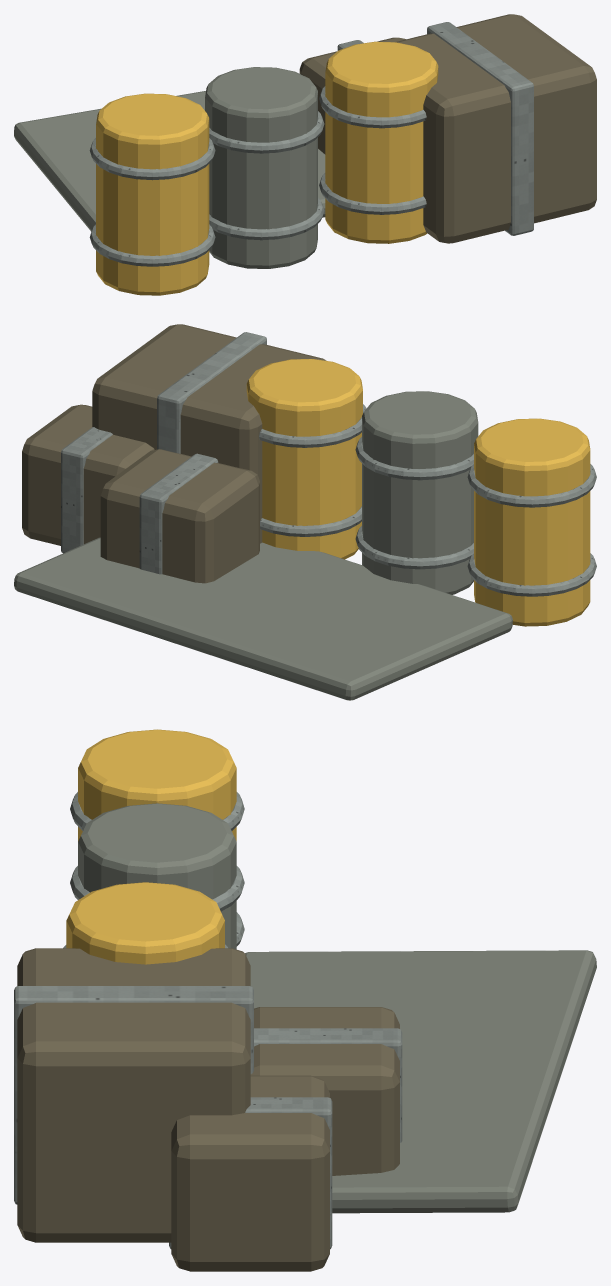
Rendered from ff_cch_01_v1.glb.
3 views of the same model, one above another, from view 1: azimuth 30°, elevation 25°; view 2: azimuth 150°, elevation 25°; view 3: azimuth 270°, elevation 25° (orthographic). The views are drawn at different scales.
Visible parts, largest first — view 1: supply_crate_0, fuel_drum_0, fuel_drum_1, fuel_drum_2, cache_tarp, crate_strap_0, drum_band_low_0, drum_band_top_0, drum_band_low_1, drum_band_top_1, drum_band_low_2, drum_band_top_2 (+1 smaller); view 2: cache_tarp, fuel_drum_0, fuel_drum_1, fuel_drum_2, supply_crate_0, supply_crate_2, supply_crate_1, crate_strap_0, crate_strap_2, crate_strap_1, drum_band_low_0, drum_band_top_0 (+4 smaller); view 3: supply_crate_0, cache_tarp, supply_crate_1, supply_crate_2, fuel_drum_1, fuel_drum_0, fuel_drum_2, crate_strap_0, crate_strap_2, crate_strap_1, drum_band_top_1, drum_band_top_0.
Boxes of the visible parts, left/top/right/bottom form: supply_crate_0: left=395, top=14, right=596, bottom=243; fuel_drum_0: left=96, top=93, right=209, bottom=295; fuel_drum_1: left=205, top=67, right=317, bottom=268; fuel_drum_2: left=325, top=41, right=438, bottom=243; cache_tarp: left=14, top=91, right=325, bottom=231; crate_strap_0: left=427, top=22, right=533, bottom=235; drum_band_low_0: left=89, top=224, right=215, bottom=266; drum_band_top_0: left=89, top=138, right=215, bottom=180; drum_band_low_1: left=209, top=198, right=324, bottom=240; drum_band_top_1: left=209, top=111, right=324, bottom=153; drum_band_low_2: left=319, top=173, right=426, bottom=214; drum_band_top_2: left=319, top=86, right=426, bottom=128; cache_tarp: left=14, top=537, right=512, bottom=700; fuel_drum_0: left=474, top=418, right=590, bottom=626; fuel_drum_1: left=362, top=391, right=478, bottom=594; fuel_drum_2: left=246, top=359, right=362, bottom=559; supply_crate_0: left=92, top=324, right=326, bottom=543; supply_crate_2: left=100, top=449, right=259, bottom=583; supply_crate_1: left=22, top=404, right=154, bottom=545; crate_strap_0: left=157, top=332, right=266, bottom=453; crate_strap_2: left=139, top=453, right=218, bottom=574; crate_strap_1: left=61, top=427, right=112, bottom=553; drum_band_low_0: left=467, top=553, right=596, bottom=596; drum_band_top_0: left=467, top=464, right=596, bottom=507; supply_crate_0: left=17, top=948, right=250, bottom=1242; cache_tarp: left=245, top=950, right=596, bottom=1213; supply_crate_1: left=171, top=1075, right=329, bottom=1271; supply_crate_2: left=250, top=1007, right=399, bottom=1175; fuel_drum_1: left=78, top=803, right=236, bottom=949; fuel_drum_0: left=78, top=729, right=236, bottom=841; fuel_drum_2: left=66, top=882, right=224, bottom=964; crate_strap_0: left=14, top=986, right=253, bottom=1204; crate_strap_2: left=254, top=1028, right=402, bottom=1142; crate_strap_1: left=169, top=1097, right=332, bottom=1249; drum_band_top_1: left=70, top=866, right=244, bottom=911; drum_band_top_0: left=70, top=792, right=244, bottom=830.
Bounding box in the file's own units: 3.4 × 1.06 × 2.5.
4 materials, 1 textured.
